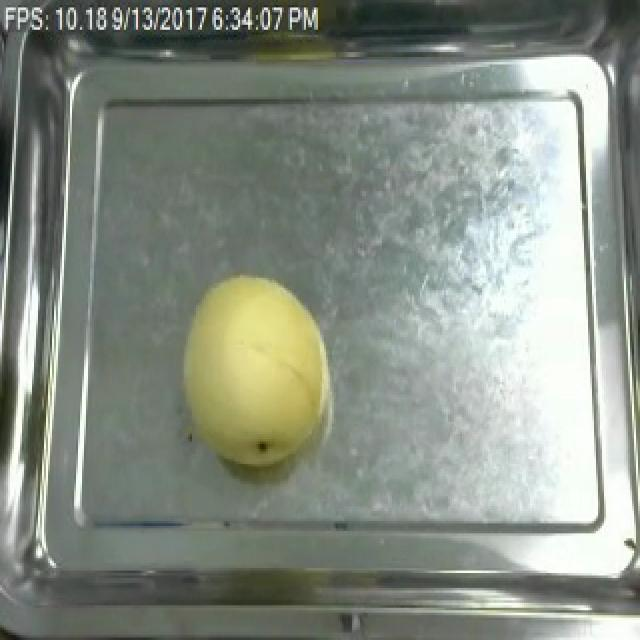Fruit: (172, 266, 344, 472)
